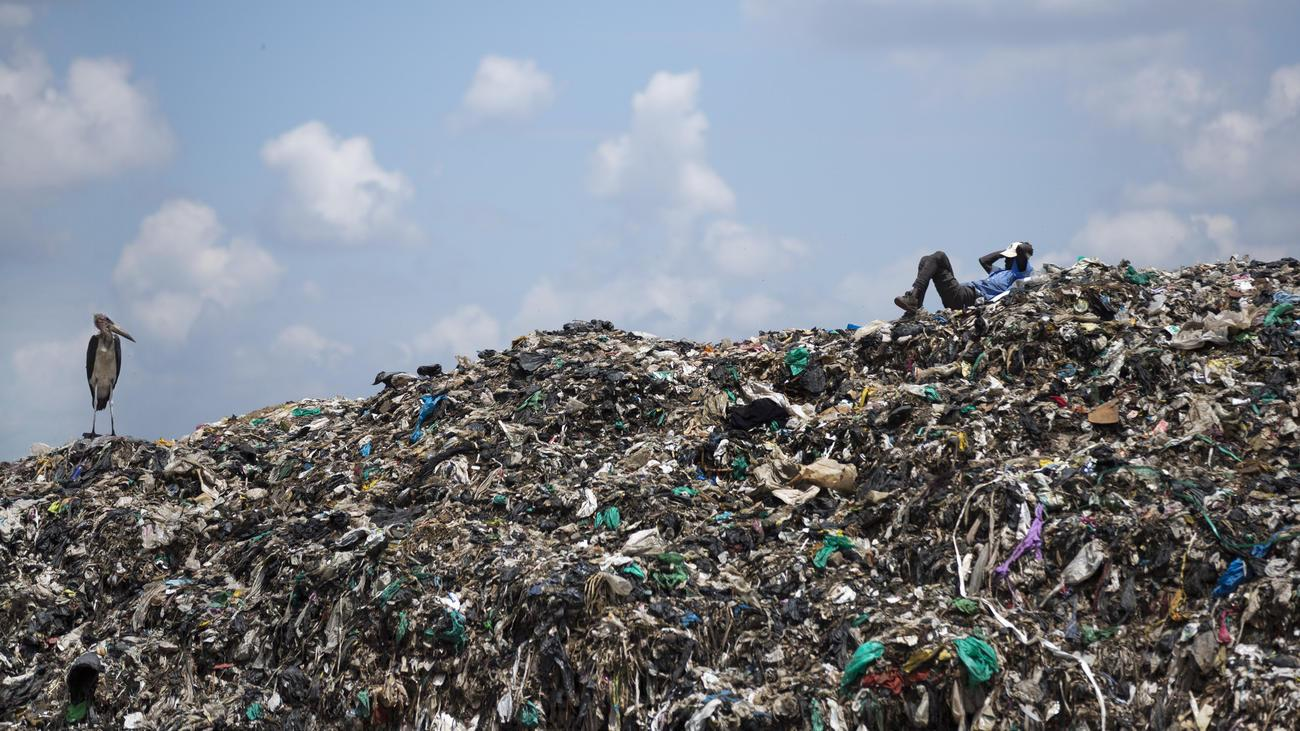garbage: (0, 253, 1300, 731)
